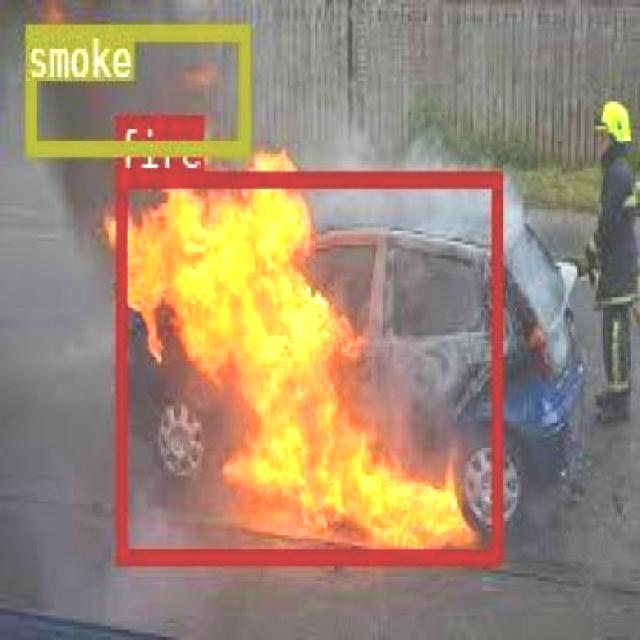fire: (114, 169, 500, 562)
smoke: (25, 23, 246, 152)
